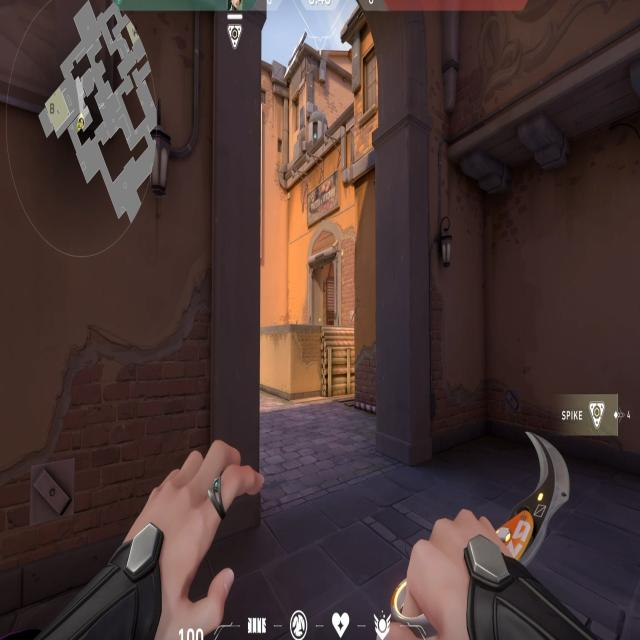B_Cubby: (286, 318, 360, 408)
